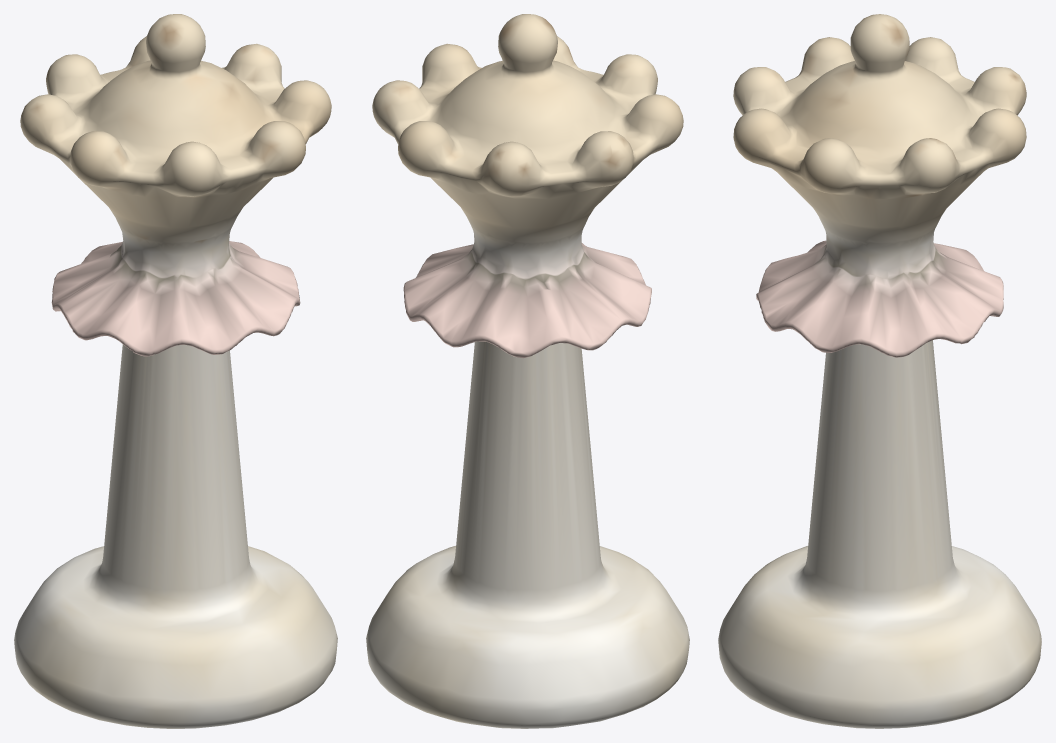
The model's file is queen-light.glb.
3 views of the same model, side by side, from view 1: azimuth 30°, elevation 25°; view 2: azimuth 150°, elevation 25°; view 3: azimuth 270°, elevation 25° (orthographic).
Visible parts, largest first — view 1: body; view 2: body; view 3: body.
Part boxes in pixels (<box>): body: <box>14,14,337,728</box>; body: <box>366,14,689,728</box>; body: <box>718,14,1041,728</box>.
Bounding box in the file's own units: 2.27 × 5.06 × 2.28.
